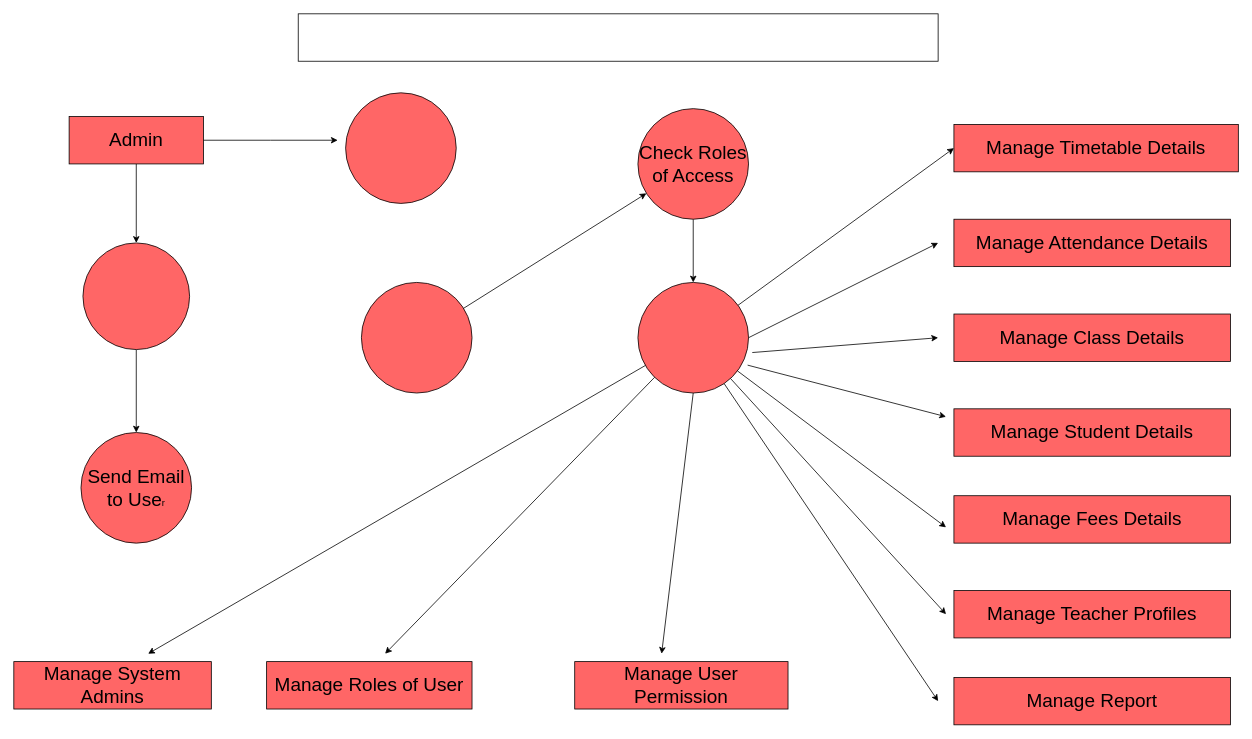
The diagram is 1252 pixels wide and 739 high, and some of its shapes have lost their labels. Here are the shapes that lost their labels. From the top down, the box of each, then its label:
(297, 13, 938, 61): Student Information System
(345, 92, 456, 203): Login to System
(82, 242, 190, 350): Forgot Password
(361, 282, 472, 393): Check Credentials
(637, 282, 749, 393): Manage Modules
